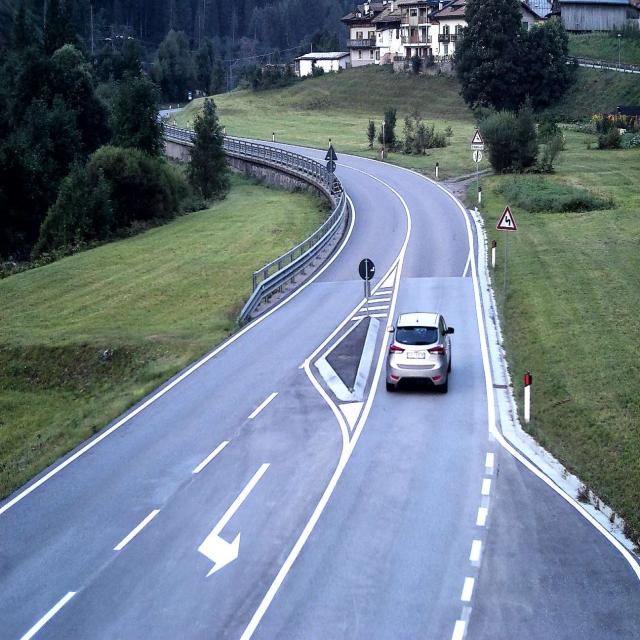car: (386, 311, 454, 392)
